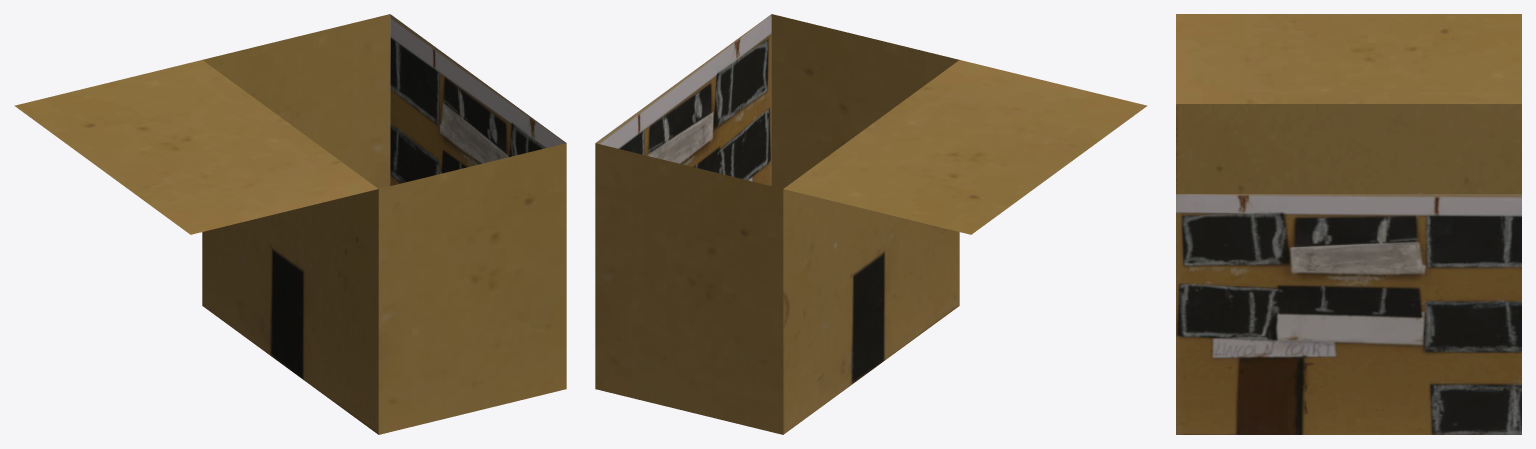
The picture shows the model from 3 angles, left to right: view 1: azimuth 30°, elevation 25°; view 2: azimuth 150°, elevation 25°; view 3: azimuth 270°, elevation 25°; orthographic projection. The views are drawn at different scales.
Visible parts, largest first — view 1: Cube, Cube.002, Cube.003; view 2: Cube, Cube.002, Cube.003; view 3: Cube, Cube.002, Cube.003.
Part boxes in pixels (bbox=[...]): Cube: bbox=[202, 143, 566, 434]; Cube.002: bbox=[14, 60, 377, 234]; Cube.003: bbox=[202, 14, 566, 188]; Cube: bbox=[595, 143, 959, 434]; Cube.002: bbox=[784, 60, 1147, 234]; Cube.003: bbox=[595, 14, 959, 188]; Cube: bbox=[1176, 194, 1521, 434]; Cube.002: bbox=[1176, 14, 1521, 103]; Cube.003: bbox=[1176, 104, 1521, 193].
Bounding box in the file's own units: 16 × 10 × 13.
1 material, 1 textured.
